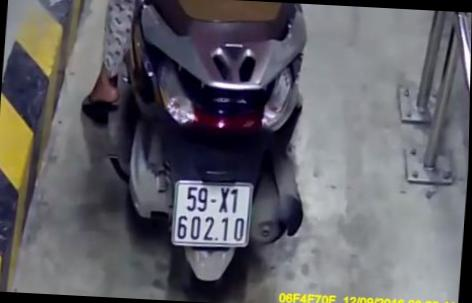LP: (171, 178, 256, 250)
